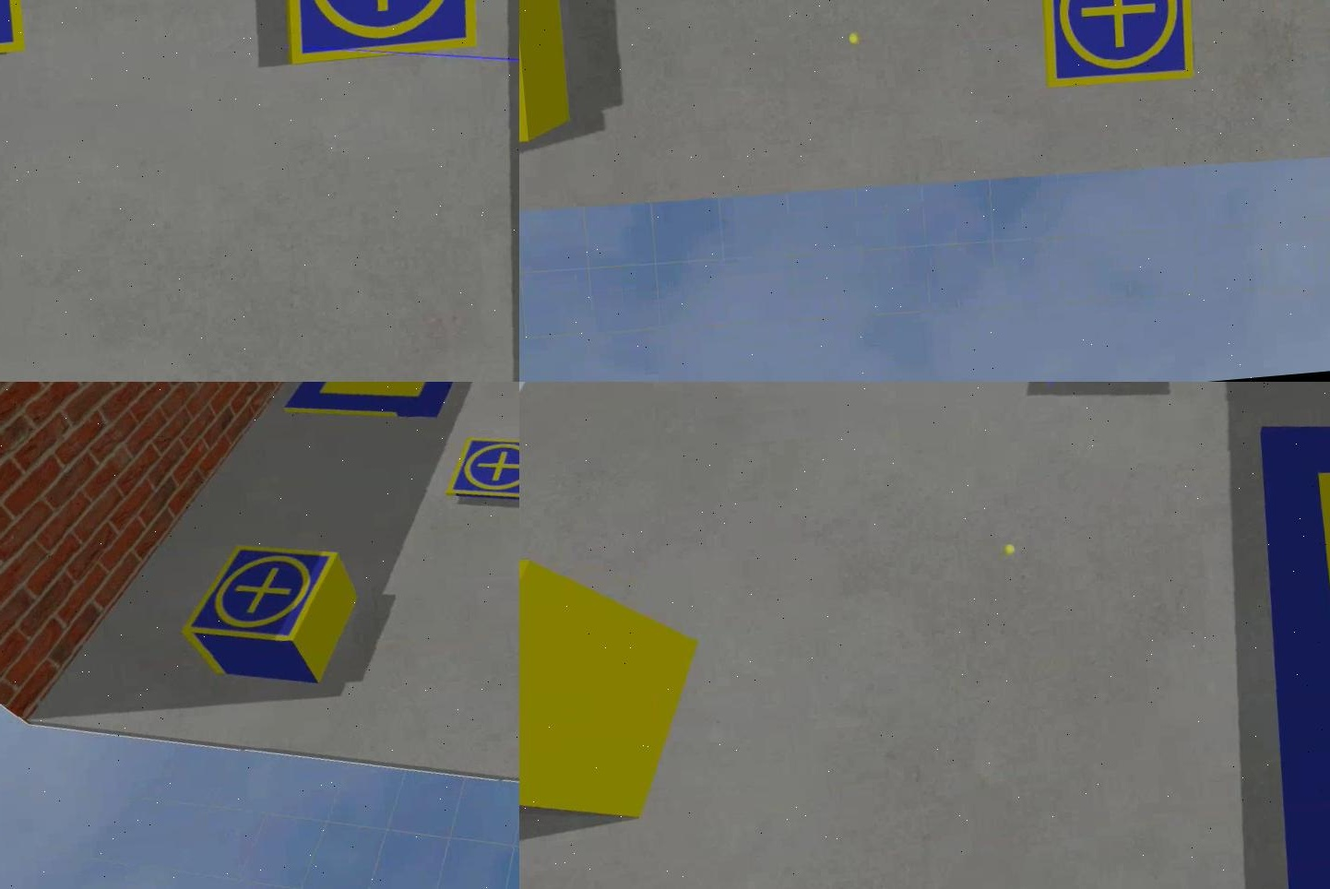large_base: (277, 382, 495, 432)
small_base: (172, 536, 349, 656), (1032, 1, 1203, 93), (268, 1, 491, 68), (441, 430, 517, 513)
